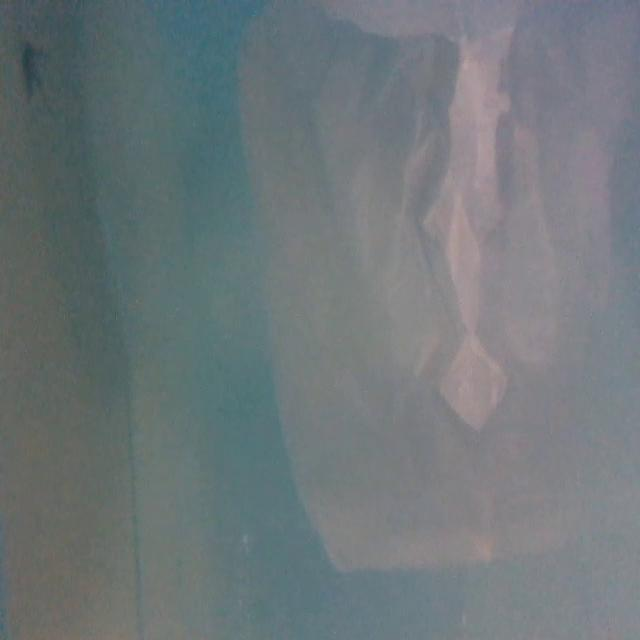plastic bags: (250, 0, 630, 572)
